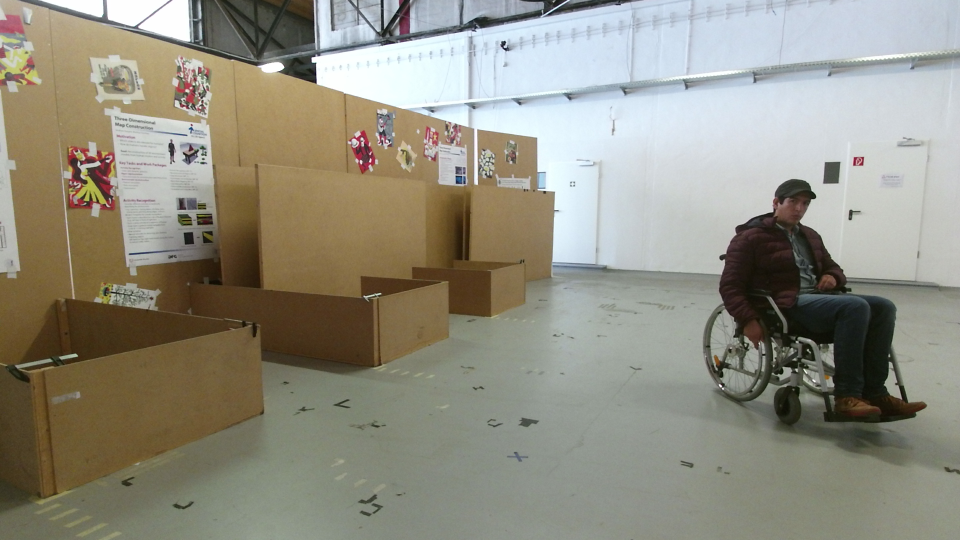wheelchair: (704, 177, 925, 425)
